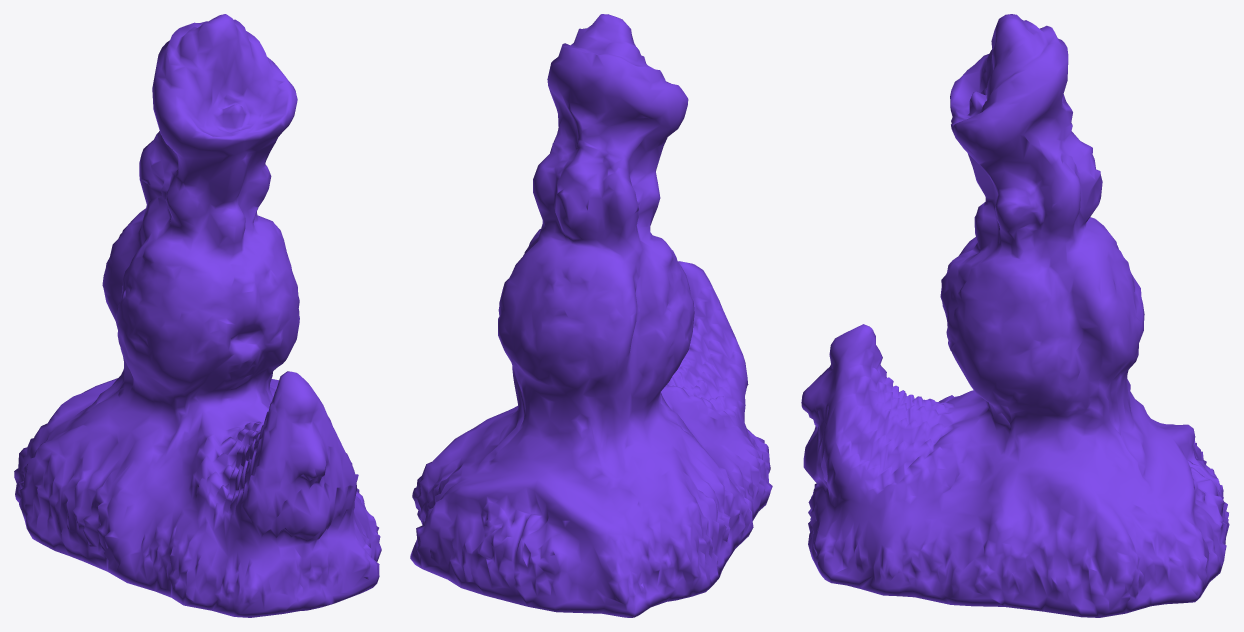
File: medium-suction-ar.glb
The picture shows the model from 3 angles, left to right: view 1: azimuth 30°, elevation 25°; view 2: azimuth 150°, elevation 25°; view 3: azimuth 270°, elevation 25°; orthographic projection. The views are drawn at different scales.
Size of the model in its own units: 0.1501 by 0.2568 by 0.1871.
